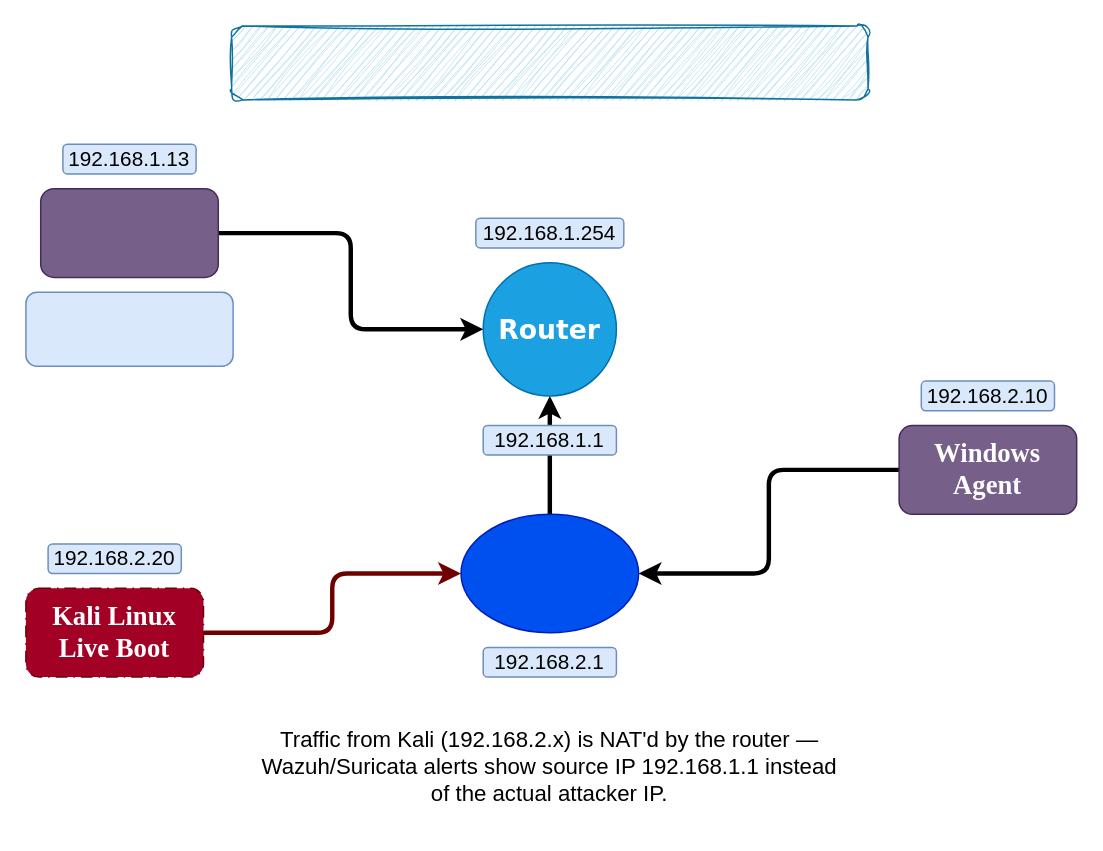
This 1103x851 diagram has some shape labels left out. The centre of each missing label's shape, as x and y in pixels:
Access Point: the point at 549,573
Debian Server: the point at 128,232
SOC Home Lab — Network Topology: the point at 549,62
Wazuh Manager, Wazuh Indexer, Wazuh Dashboard, Suricata.: the point at 128,328
